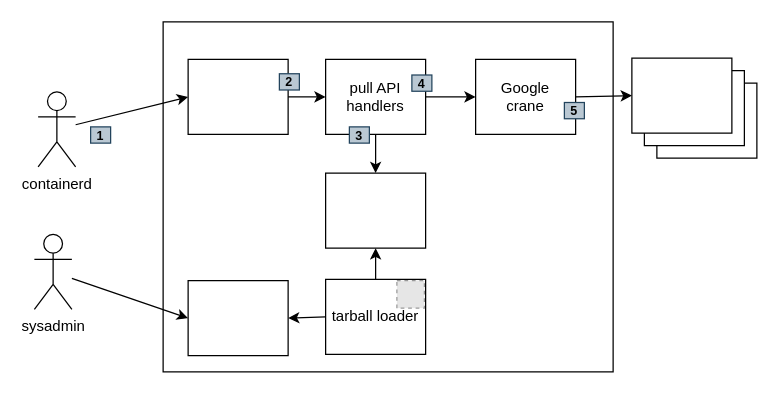
The diagram is 779 pixels wide and 394 high, and some of its shapes have lost their labels. Grey dashed boxes stand in for pictures. Here are the shapes that lost their labels. From the top down, the centre of each, then its label:
point 237,96: echo
point 681,95: remote registry
point 375,210: image store (file system)
point 237,317: staging (file system)
